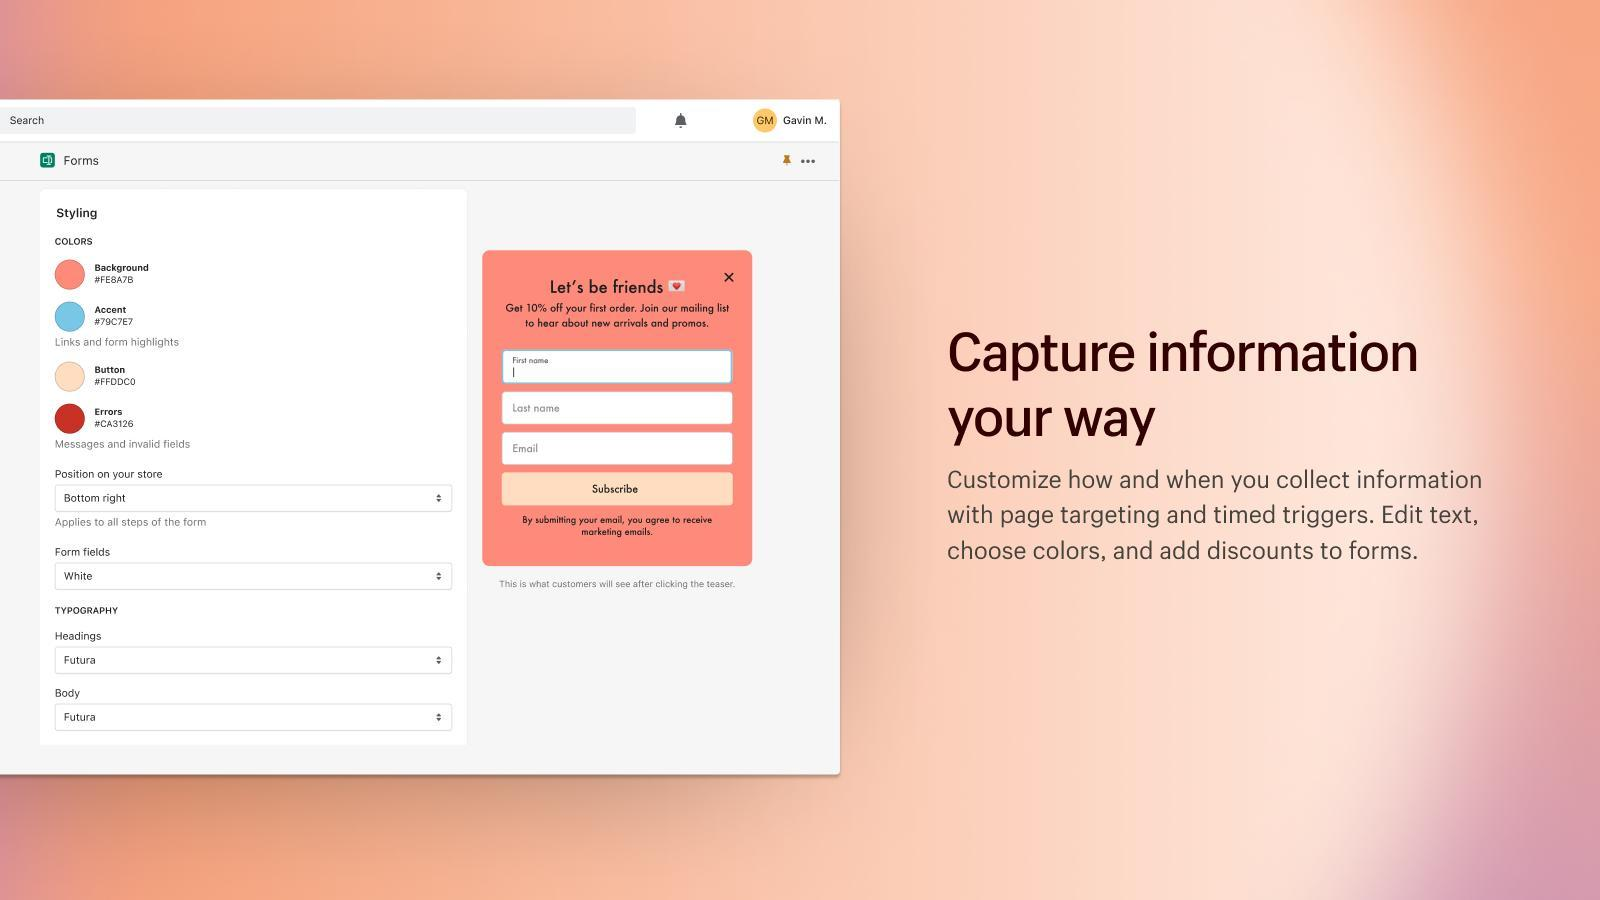button: (501, 474, 736, 507)
dropdown: (55, 564, 456, 593), (56, 488, 454, 514), (58, 705, 451, 732), (58, 649, 453, 674)
icon: (673, 109, 692, 134), (798, 155, 821, 170), (780, 148, 795, 171)
input: (1, 107, 638, 138), (504, 352, 731, 385), (504, 393, 734, 424), (504, 434, 735, 464)
label: (520, 514, 719, 546), (547, 274, 667, 299), (51, 516, 218, 533), (51, 438, 205, 453), (92, 262, 160, 292), (52, 337, 186, 353), (88, 363, 149, 388), (54, 601, 129, 621), (52, 468, 173, 480), (51, 200, 102, 227), (93, 404, 141, 433), (93, 305, 141, 333), (51, 230, 105, 251), (55, 546, 118, 559), (51, 685, 88, 705), (49, 630, 104, 642)
